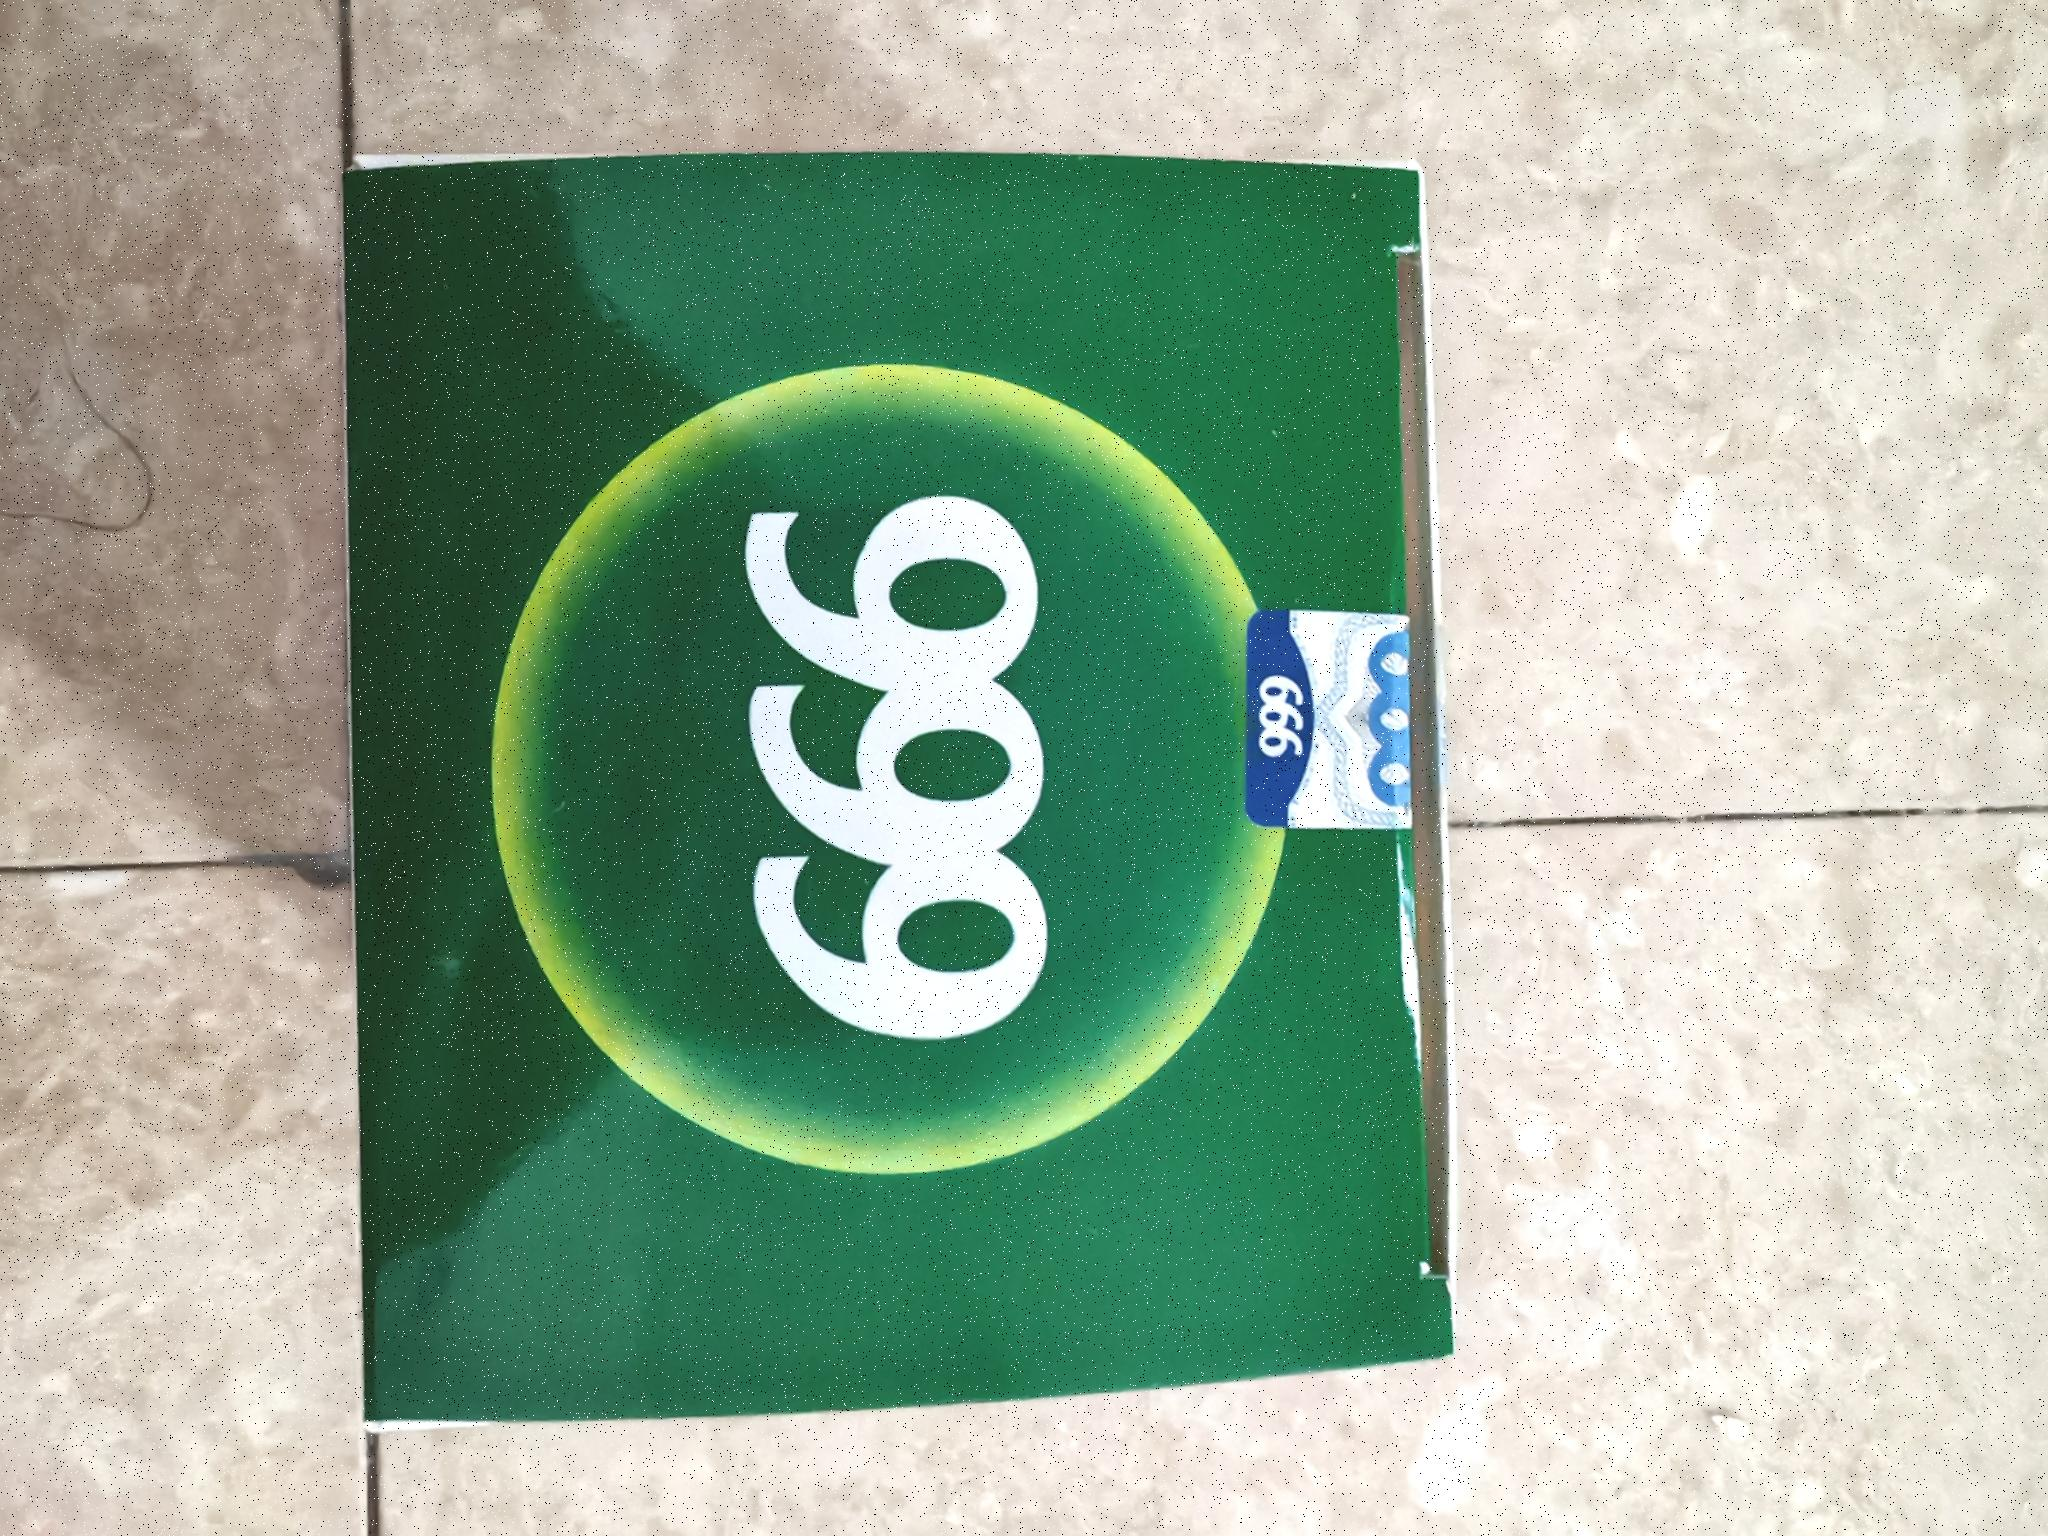Medicine3: (303, 136, 1493, 1442)
